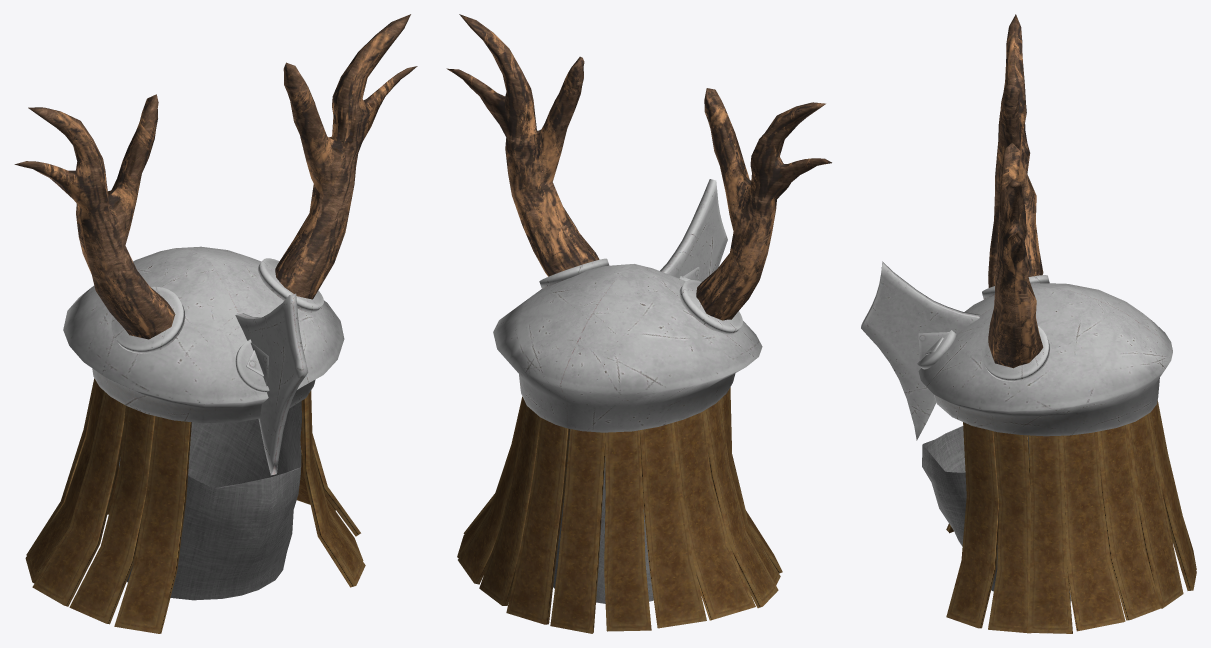
File: easterling02_v1_helmet_v2.fbx
3 views of the same model, side by side, from view 1: azimuth 30°, elevation 25°; view 2: azimuth 150°, elevation 25°; view 3: azimuth 270°, elevation 25° (orthographic). The views are drawn at different scales.
Visible parts, largest first — view 1: easterling02_v1_helmet_v2; view 2: easterling02_v1_helmet_v2; view 3: easterling02_v1_helmet_v2.
Boxes of the visible parts, left/top/right/bottom form: easterling02_v1_helmet_v2: left=14, top=14, right=417, bottom=633; easterling02_v1_helmet_v2: left=446, top=14, right=831, bottom=633; easterling02_v1_helmet_v2: left=861, top=14, right=1196, bottom=633.
Bounding box in the file's own units: 0.4725 × 0.374 × 0.5852.
1 material, 1 textured.
